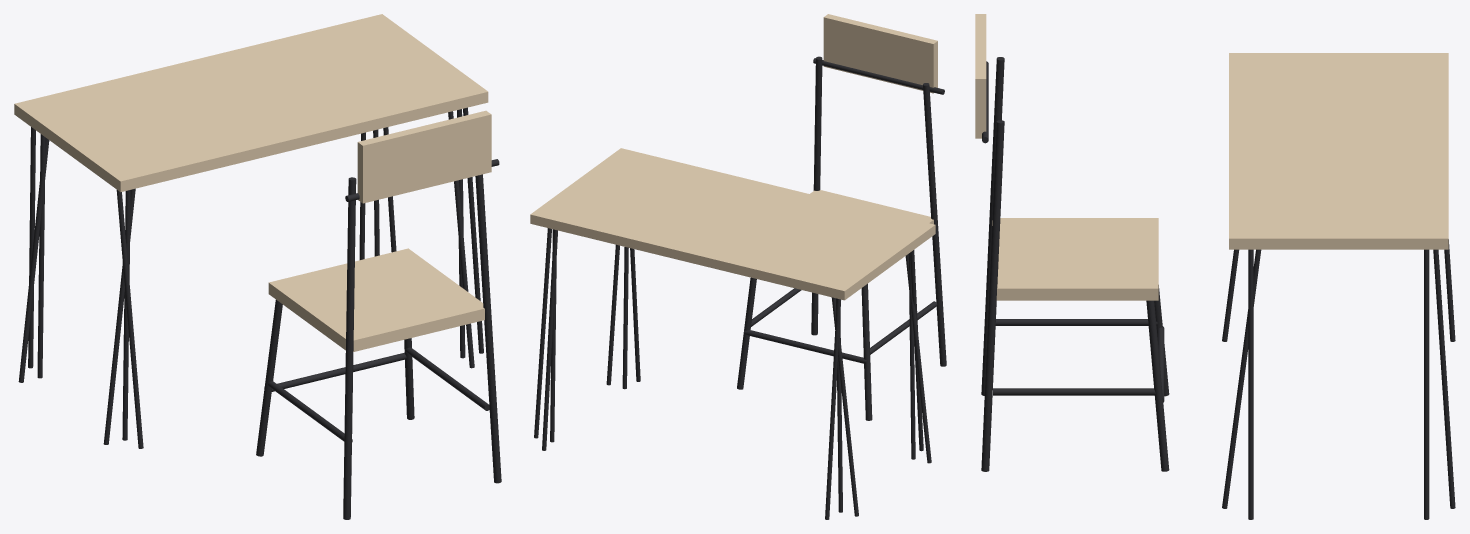
Rendered from DeskAndChair.glb.
The picture shows the model from 3 angles, left to right: view 1: azimuth 30°, elevation 25°; view 2: azimuth 150°, elevation 25°; view 3: azimuth 270°, elevation 25°; orthographic projection. The views are drawn at different scales.
Visible parts, largest first — view 1: Desk_Top, Chair_Seat, Chair_Backrest, Chair_Leg_FL, Chair_Leg_FR, Desk_Leg_0_2, Desk_Leg_3_1, Chair_Leg_NL, Desk_Leg_3_0, Desk_Leg_0_1, Desk_Leg_0_0, Desk_Leg_3_2 (+6 smaller); view 2: Desk_Top, Chair_Backrest, Chair_Leg_FL, Chair_Leg_FR, Desk_Leg_2_2, Desk_Leg_3_2, Desk_Leg_2_1, Chair_Leg_NL, Desk_Leg_3_1, Desk_Leg_0_1, Chair_Seat, Desk_Leg_0_0 (+9 smaller); view 3: Desk_Top, Chair_Seat, Chair_Leg_FR, Desk_Leg_1_1, Desk_Leg_2_1, Chair_Leg_FL, Desk_Leg_2_2, Chair_Backrest, Chair_Leg_NR, Desk_Leg_1_2, Chair_Stretcher_R, Chair_Stretcher_L (+2 smaller).
Boxes of the visible parts, x1,y1,x2,y2 form: Desk_Top: [14, 14, 488, 192]; Chair_Seat: [268, 248, 484, 351]; Chair_Backrest: [357, 110, 491, 203]; Chair_Leg_FL: [343, 177, 356, 519]; Chair_Leg_FR: [475, 174, 501, 483]; Desk_Leg_0_2: [116, 190, 143, 448]; Desk_Leg_3_1: [18, 138, 49, 382]; Chair_Leg_NL: [256, 300, 282, 456]; Desk_Leg_3_0: [37, 134, 45, 378]; Desk_Leg_0_1: [103, 188, 135, 444]; Desk_Leg_0_0: [122, 190, 130, 440]; Desk_Leg_3_2: [28, 127, 35, 368]; Desk_Top: [530, 148, 935, 300]; Chair_Backrest: [823, 14, 937, 93]; Chair_Leg_FL: [923, 83, 946, 366]; Chair_Leg_FR: [811, 56, 822, 335]; Desk_Leg_2_2: [542, 229, 557, 450]; Desk_Leg_3_2: [825, 298, 840, 519]; Desk_Leg_2_1: [534, 228, 551, 438]; Chair_Leg_NL: [861, 283, 872, 420]; Desk_Leg_3_1: [831, 297, 858, 516]; Desk_Leg_0_1: [905, 254, 931, 463]; Chair_Seat: [810, 190, 933, 224]; Desk_Leg_0_0: [908, 253, 915, 459]; Desk_Top: [1229, 53, 1448, 249]; Chair_Seat: [992, 218, 1158, 300]; Chair_Leg_FR: [981, 120, 1004, 471]; Desk_Leg_1_1: [1248, 249, 1253, 519]; Desk_Leg_2_1: [1424, 249, 1429, 519]; Chair_Leg_FL: [981, 57, 1004, 395]; Desk_Leg_2_2: [1433, 249, 1455, 508]; Chair_Backrest: [975, 14, 986, 138]; Chair_Leg_NR: [1146, 300, 1169, 471]; Desk_Leg_1_2: [1222, 249, 1261, 508]; Chair_Stretcher_R: [993, 388, 1155, 395]; Chair_Stretcher_L: [995, 319, 1157, 325].
Size of the model in its own units: 1.03 by 0.9711 by 1.09.
